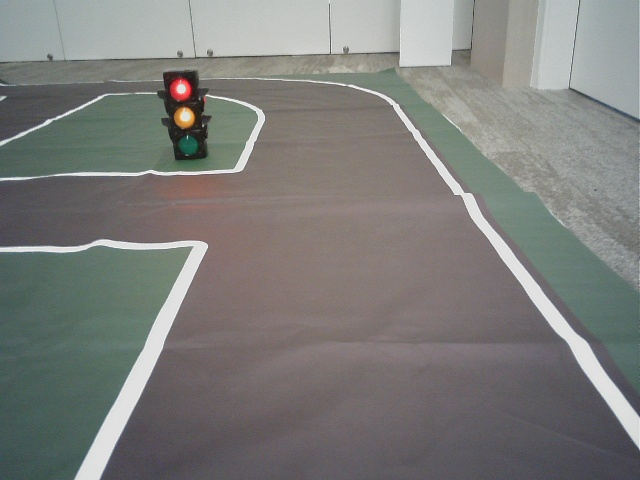red: (164, 71, 204, 155)
